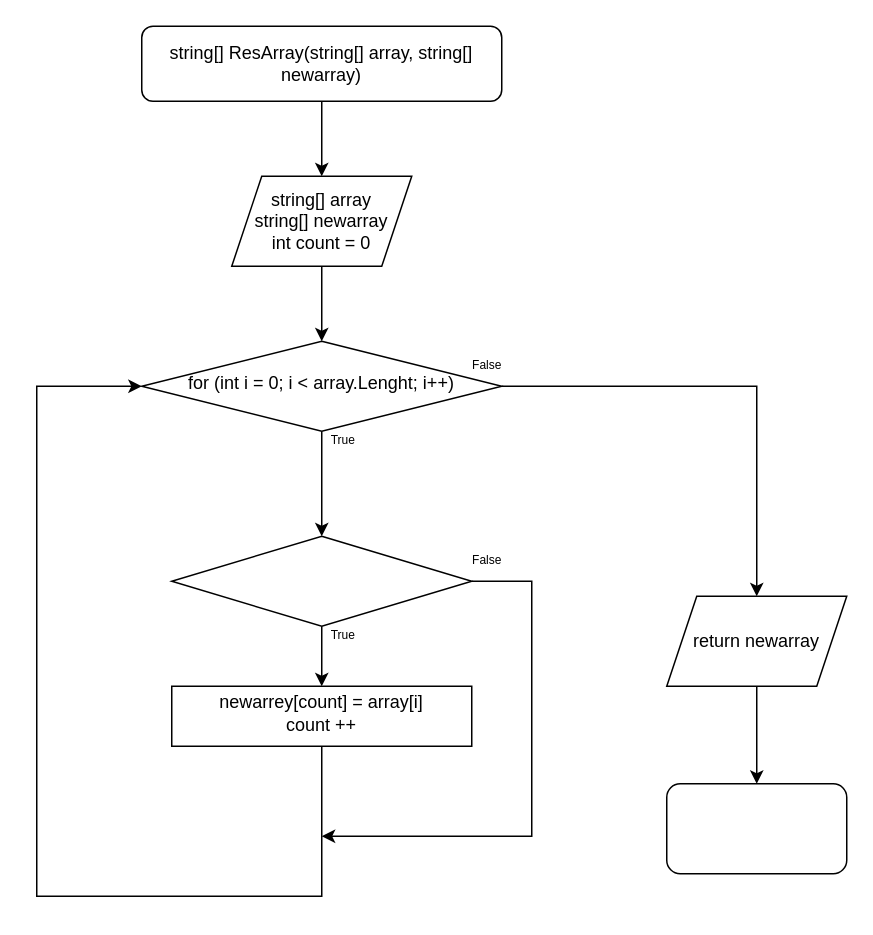
Some shapes in this 873 by 935 pixel diagram are drawn without their labels. The box of each missing label's shape, as (x1, y1, x2, y2) in pixels:
arrey[i].Lenght <=3: (170, 535, 472, 626)
to be continued...: (665, 782, 847, 874)
